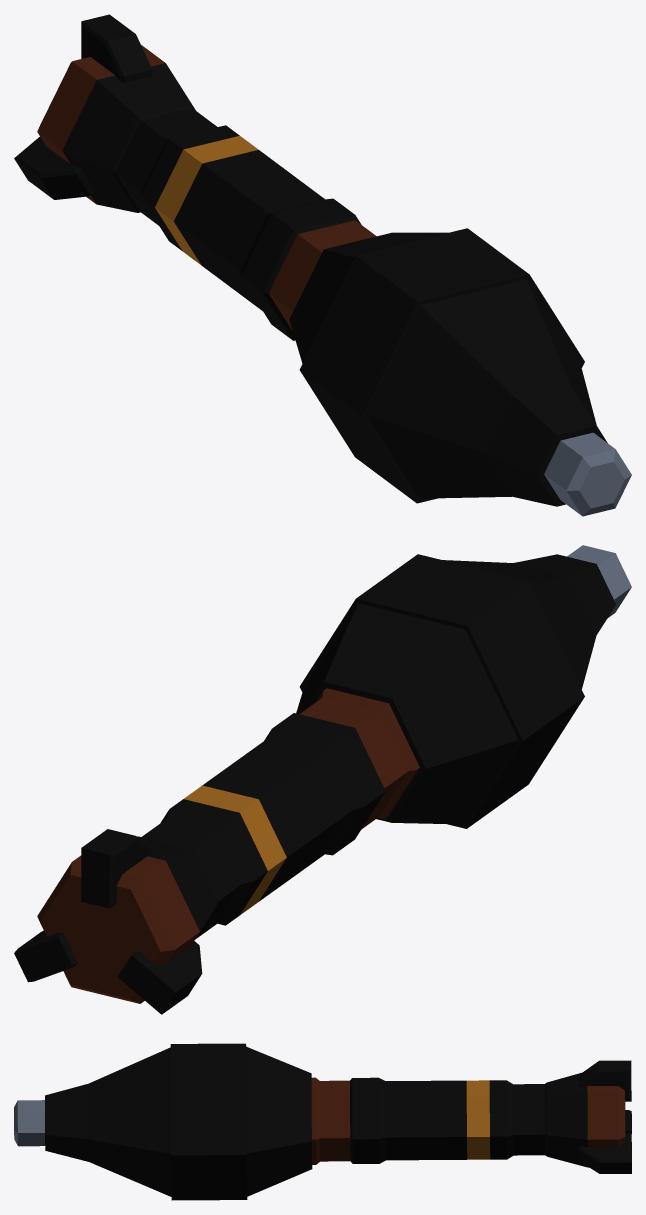
Rendered from Bullet.FBX.
3 renders of one model, top to bottom at view 1: azimuth 30°, elevation 25°; view 2: azimuth 150°, elevation 25°; view 3: azimuth 270°, elevation 25°, orthographic. The views are drawn at different scales.
Visible parts, largest first — view 1: Cylinder; view 2: Cylinder; view 3: Cylinder.
Boxes of the visible parts, x1,y1,x2,y2 form: Cylinder: [14, 14, 631, 516]; Cylinder: [14, 545, 631, 1014]; Cylinder: [14, 1043, 631, 1200].
Size of the model in its own units: 76.44 by 66.47 by 301.
